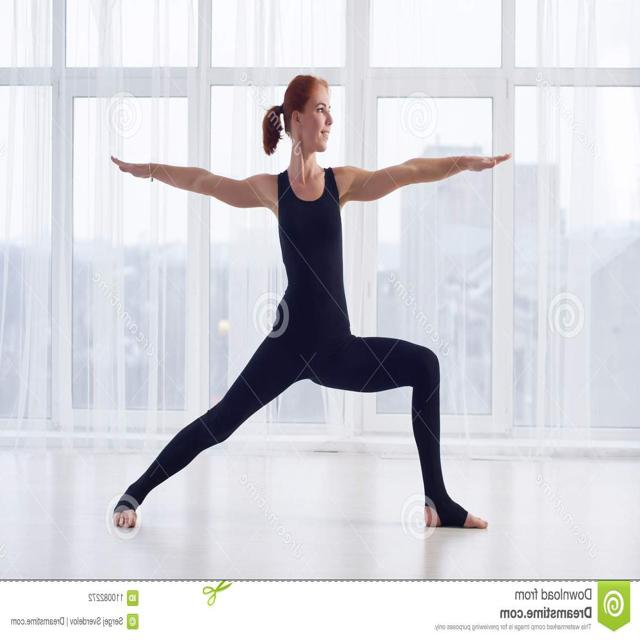Warrior_II: (106, 71, 514, 534)
